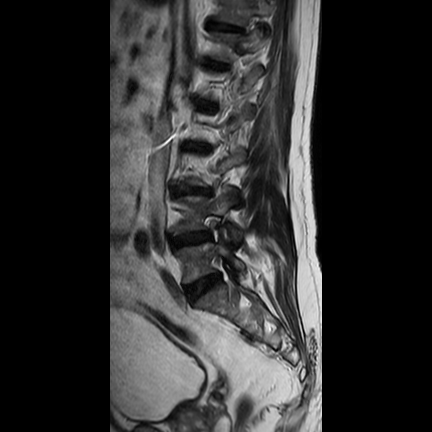RFS0: (195, 207, 227, 248)
